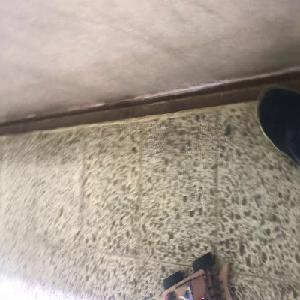Robot: (162, 251, 232, 299)
